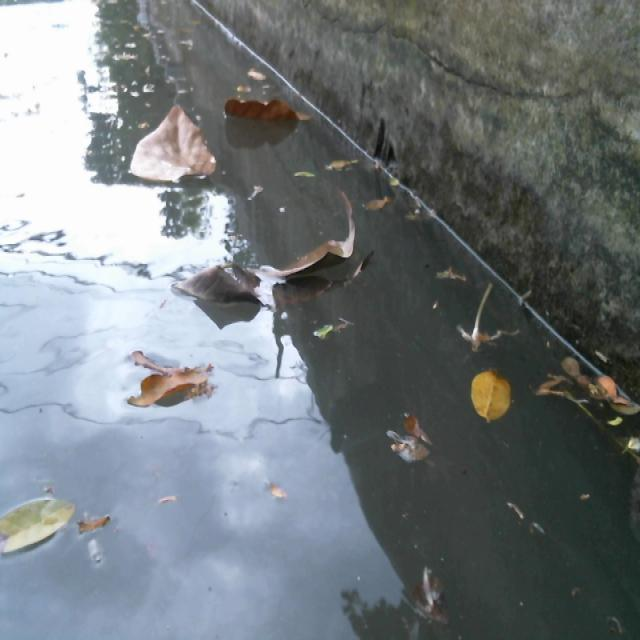Big-leaf: (167, 187, 370, 319), (116, 337, 225, 429), (124, 101, 220, 191), (220, 92, 320, 137)
Small-leaf: (0, 487, 78, 565), (468, 361, 520, 434), (413, 547, 456, 632), (387, 402, 434, 475), (426, 254, 474, 297), (597, 366, 637, 412), (256, 471, 302, 506), (80, 509, 128, 539), (322, 148, 370, 178), (246, 54, 276, 88), (249, 177, 275, 209), (292, 164, 324, 189), (401, 203, 428, 232), (154, 491, 179, 522), (364, 187, 386, 211)
